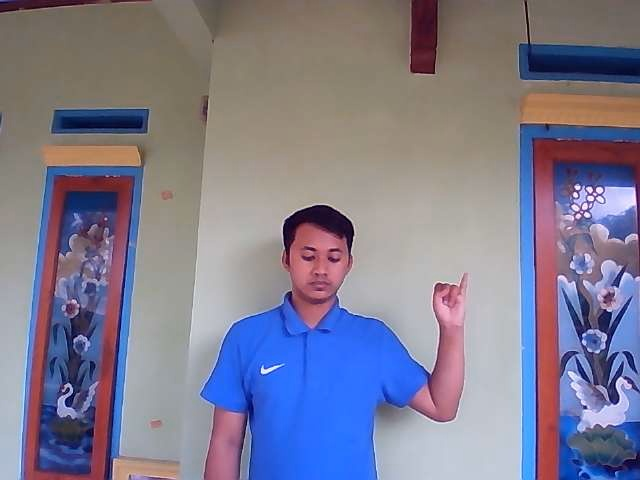I: (431, 272, 469, 327)
